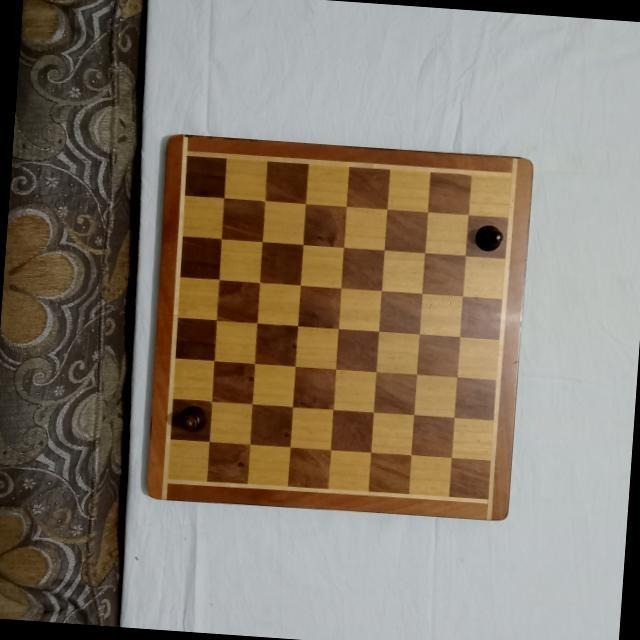black-pawn: (472, 222, 504, 254), (176, 402, 208, 432)
